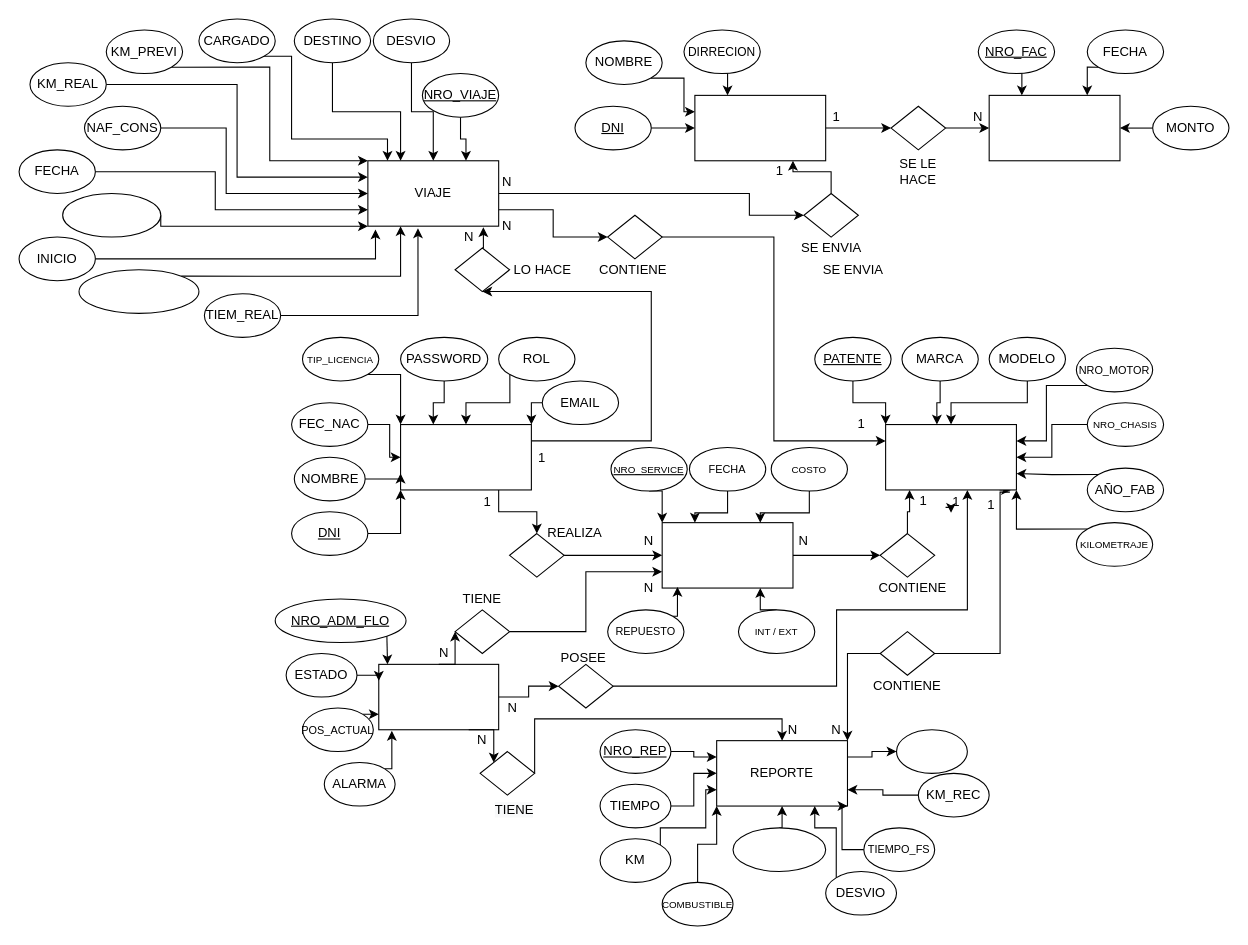
Image size: 1248x945. Some labels were removed from this diagram. The centre of each missing label's shape, as x and y in pixels:
ADM_FLOTA: the point at 438,696
CLIENTE: the point at 760,127
COS_KM_RECO: the point at 779,849
COSTO_MAN: the point at 931,751
EMPLEADO: the point at 465,456
EQ_ARRASTRE: the point at 111,214
FACTURA: the point at 1054,127
SERVICE: the point at 727,555
TIEM_ESTIMADO: the point at 138,291
VEHICULO: the point at 950,456
